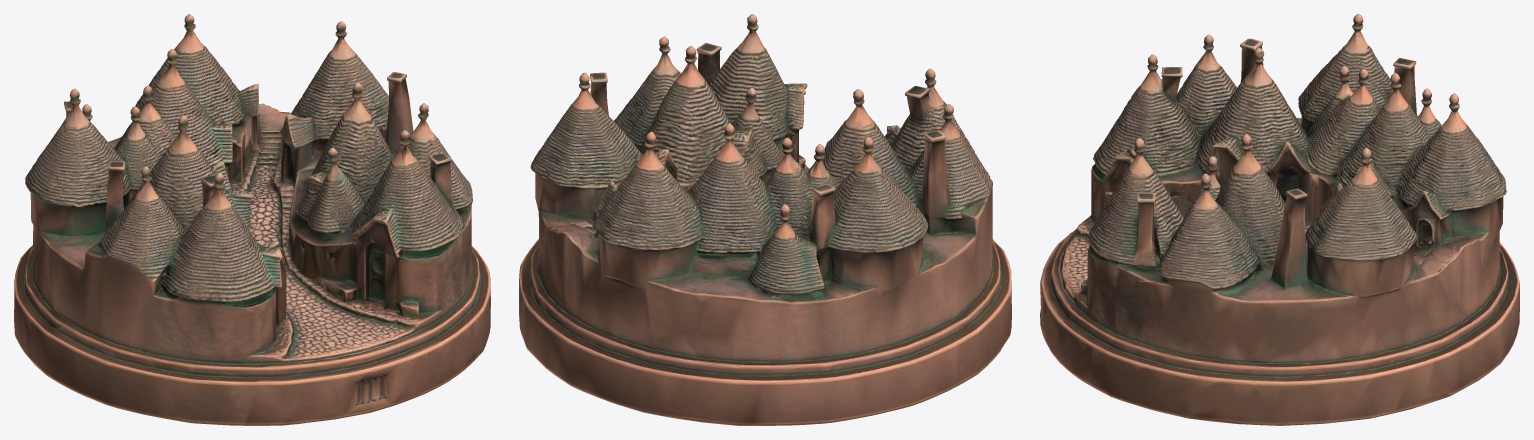
The model's file is trulli_meshy.glb.
3 renders of one model, left to right at view 1: azimuth 30°, elevation 25°; view 2: azimuth 150°, elevation 25°; view 3: azimuth 270°, elevation 25°, orthographic. The views are drawn at different scales.
Visible parts, largest first — view 1: Mesh_0; view 2: Mesh_0; view 3: Mesh_0.
Boxes of the visible parts, <box> form: Mesh_0: <box>14,14,490,425</box>; Mesh_0: <box>519,14,1011,425</box>; Mesh_0: <box>1040,14,1519,425</box>.
Bounding box in the file's own units: 1.91 × 1.08 × 1.91.
Materials: 1 (1 with a texture image).
